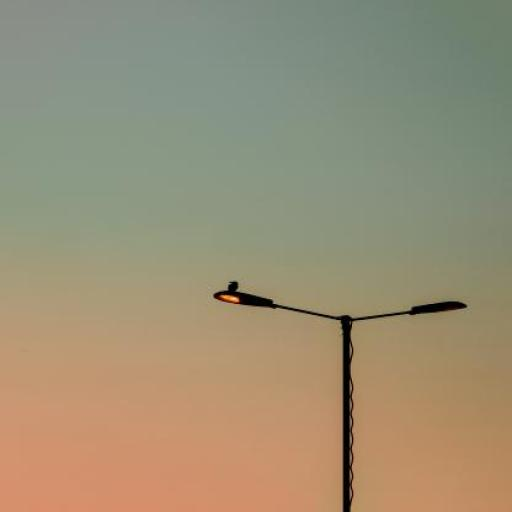street light: (212, 290, 466, 512)
